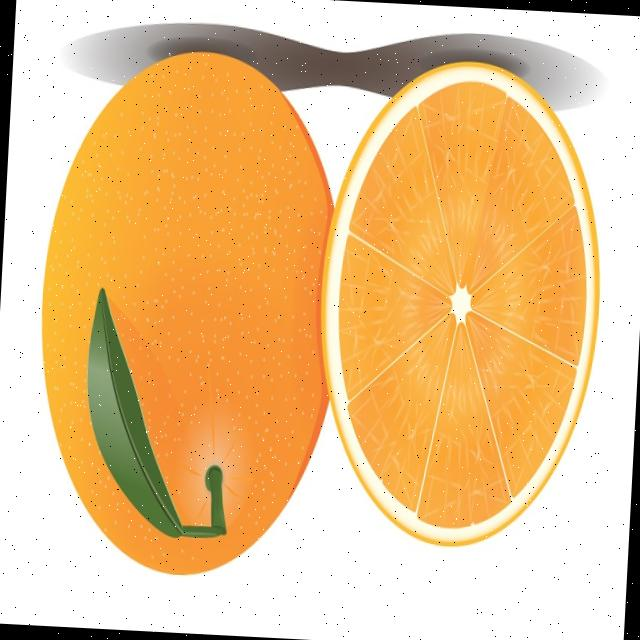Jeruk: (28, 44, 348, 584), (308, 54, 612, 556)
